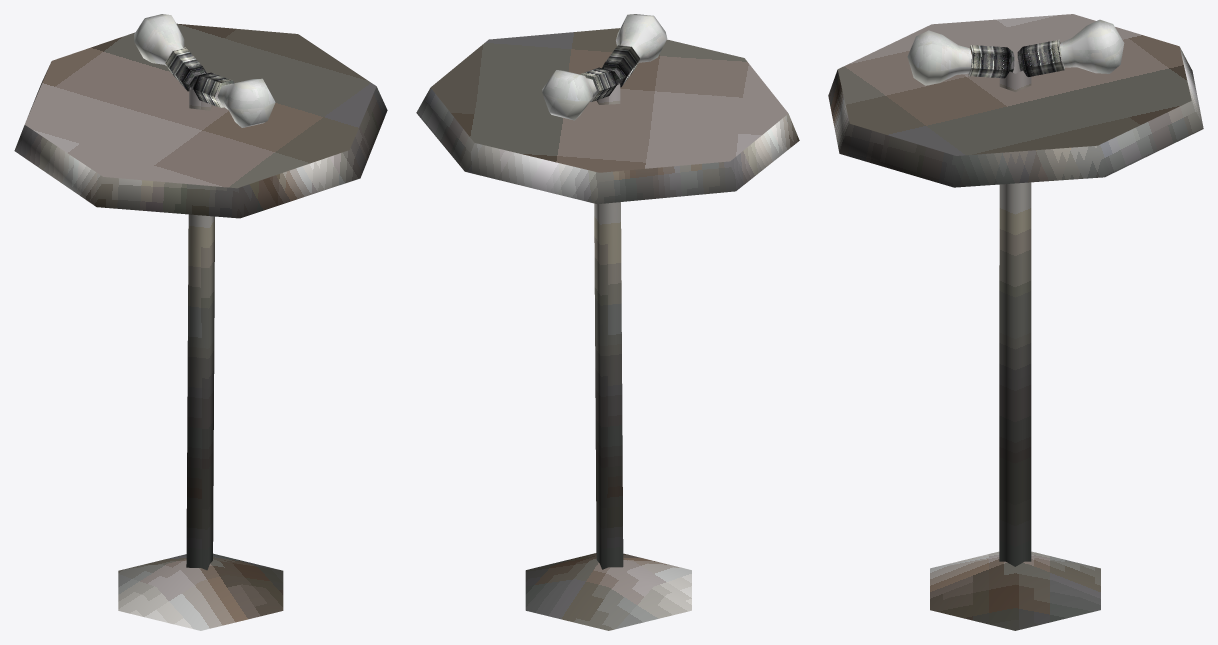
File: hang_retail_slum2.fbx
3 renders of one model, left to right at view 1: azimuth 30°, elevation 25°; view 2: azimuth 150°, elevation 25°; view 3: azimuth 270°, elevation 25°, orthographic. The views are drawn at different scales.
Parts seen in each view (by area): view 1: mesh_3, mesh_0, mesh_1, mesh_2; view 2: mesh_3, mesh_0, mesh_1, mesh_2; view 3: mesh_3, mesh_0, mesh_1, mesh_2.
Part boxes in pixels (bbox=[...]): mesh_3: bbox=[14, 23, 387, 218]; mesh_0: bbox=[118, 87, 283, 630]; mesh_1: bbox=[134, 14, 275, 127]; mesh_2: bbox=[165, 47, 233, 107]; mesh_3: bbox=[416, 28, 799, 204]; mesh_0: bbox=[525, 83, 691, 630]; mesh_1: bbox=[542, 14, 667, 120]; mesh_2: bbox=[580, 45, 640, 101]; mesh_3: bbox=[828, 14, 1203, 187]; mesh_0: bbox=[930, 60, 1100, 630]; mesh_1: bbox=[907, 19, 1124, 85]; mesh_2: bbox=[968, 39, 1064, 78].
Size of the model in its own units: 60.39 by 99.97 by 60.35.
Materials: 3 (3 with a texture image).
